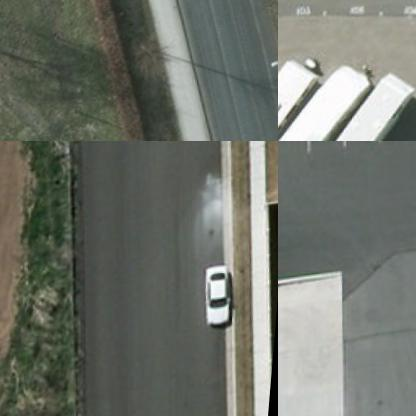camping car: (278, 64, 386, 140), (301, 74, 415, 140), (278, 48, 335, 140)
car: (204, 264, 235, 332)
